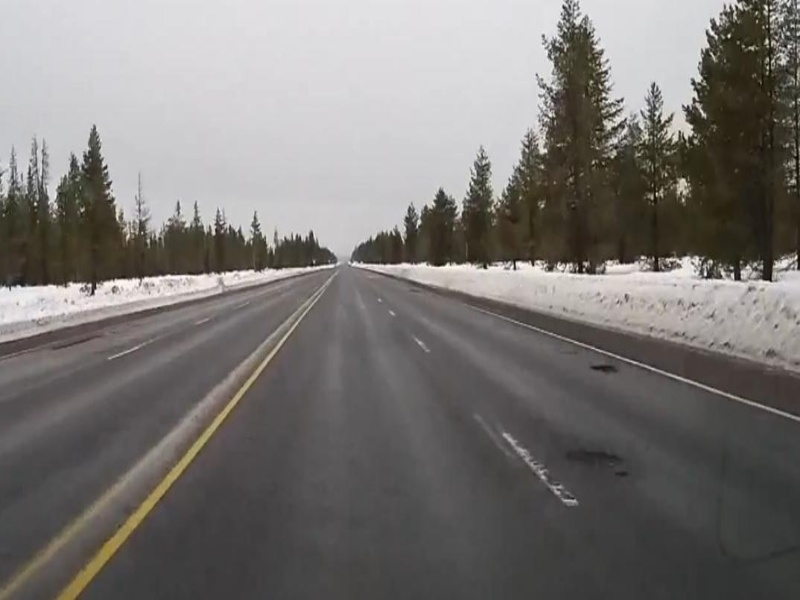pothole: (560, 447, 621, 467), (582, 360, 624, 380)
